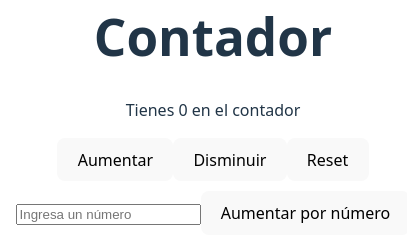
Test: Counter component › decrements counter when "Disminuir" button is clicked
Note: Increase counter to 1 first
Click the button "Aumentar" at x=115, y=160, box [58, 138, 173, 182]
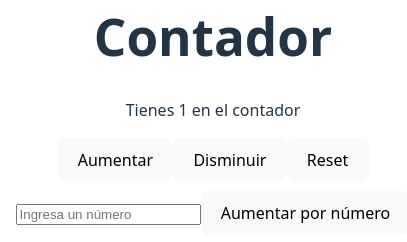
Check: the text "Tienes 1 en el contador" is shown, box [126, 99, 300, 121]
Note: Decrease counter to 0
Click the button "Disminuir" at x=230, y=160, box [173, 138, 287, 182]
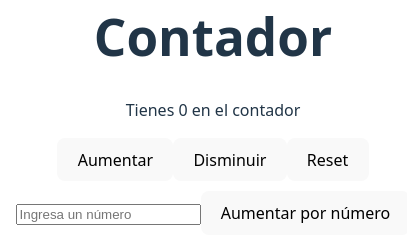
Check: the text "Tienes 0 en el contador" is shown, box [126, 99, 300, 121]
